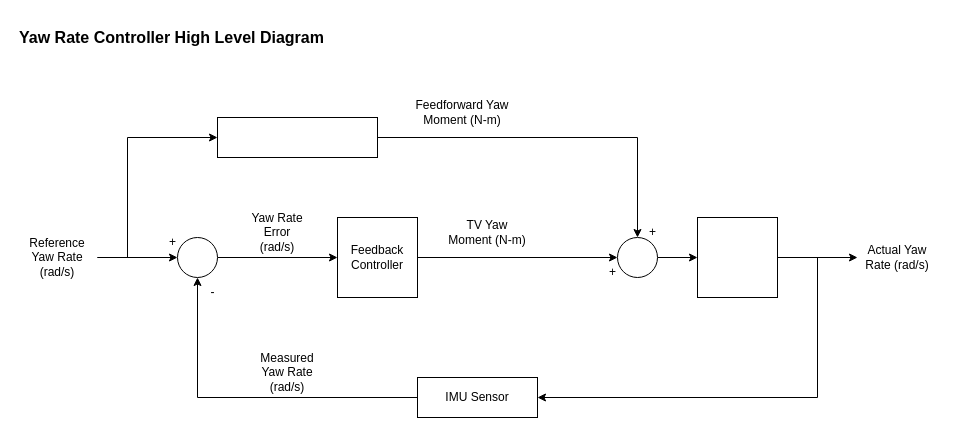
Some shapes in this 954 by 435 pixel diagram are drawn without their labels. The box of each missing label's shape, as (x1, y1, x2, y2) in pixels:
Feedforward Controller: (216, 116, 378, 158)
Vehicle Model (Plant): (696, 216, 778, 298)
